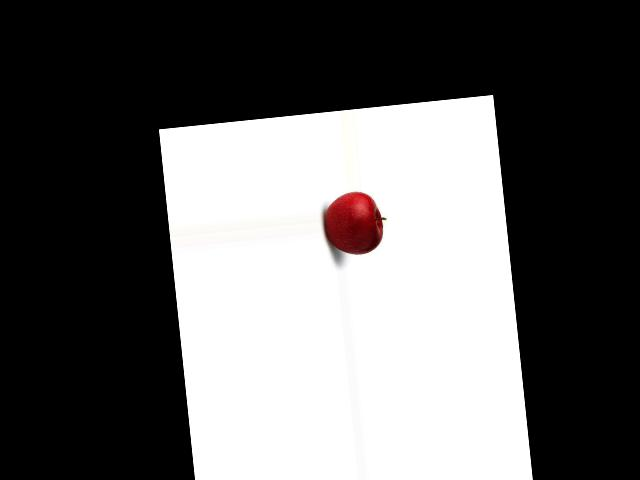apple: (320, 188, 390, 259)
